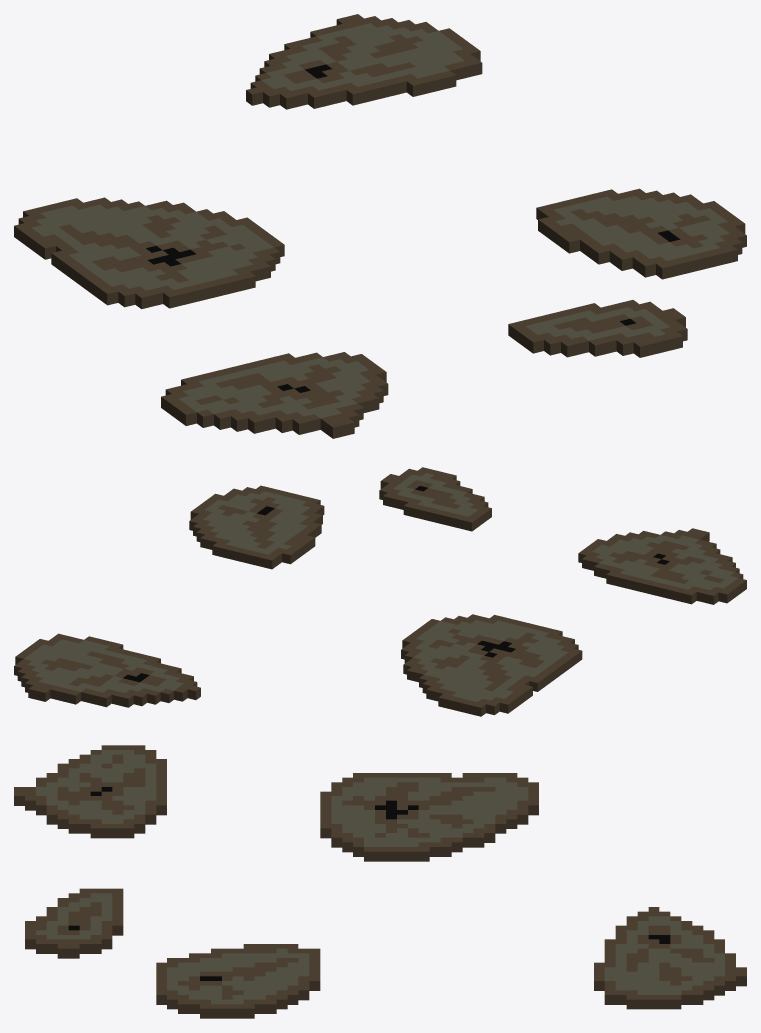
Rendered from ground_hole_6.obj.
3 views of the same model, one above another, from view 1: azimuth 30°, elevation 25°; view 2: azimuth 150°, elevation 25°; view 3: azimuth 270°, elevation 25° (orthographic). The views are drawn at different scales.
Size of the model in its own units: 5.7 by 0.1 by 6.7.
Materials: 1 (1 with a texture image).
